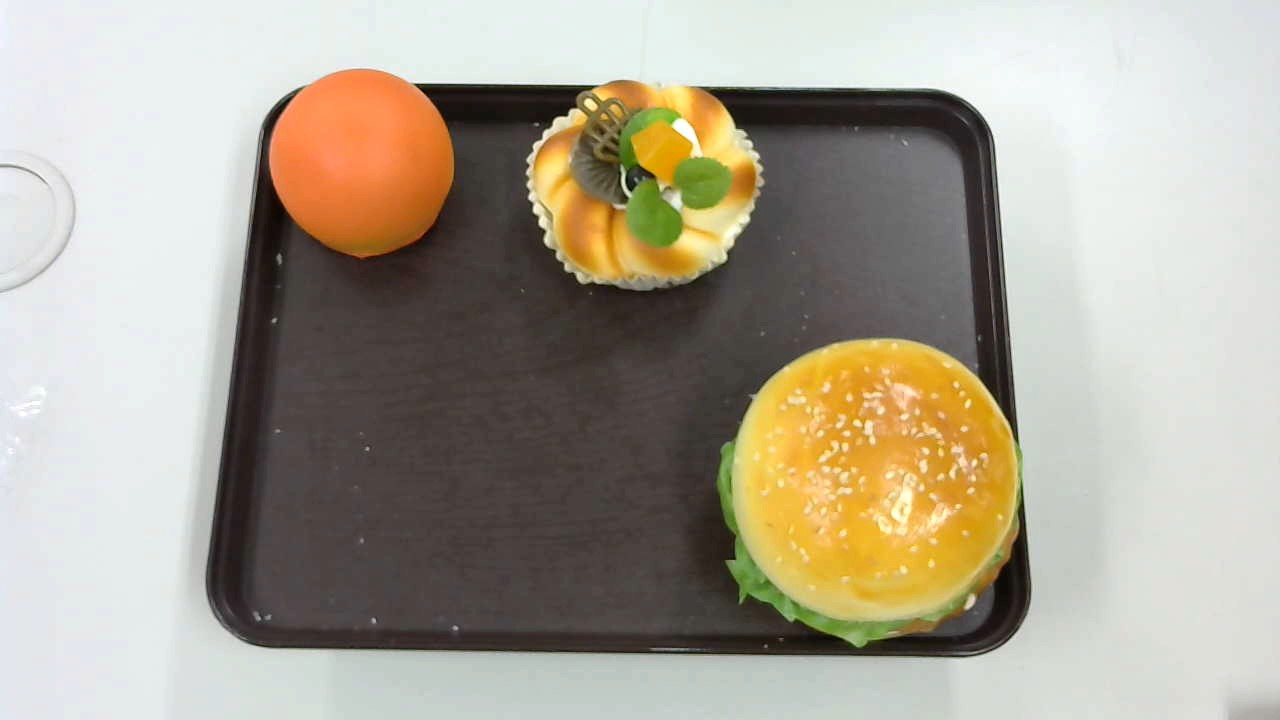bun: (270, 69, 455, 257)
fruit tart: (525, 80, 765, 292)
hamburger: (717, 336, 1021, 650)
